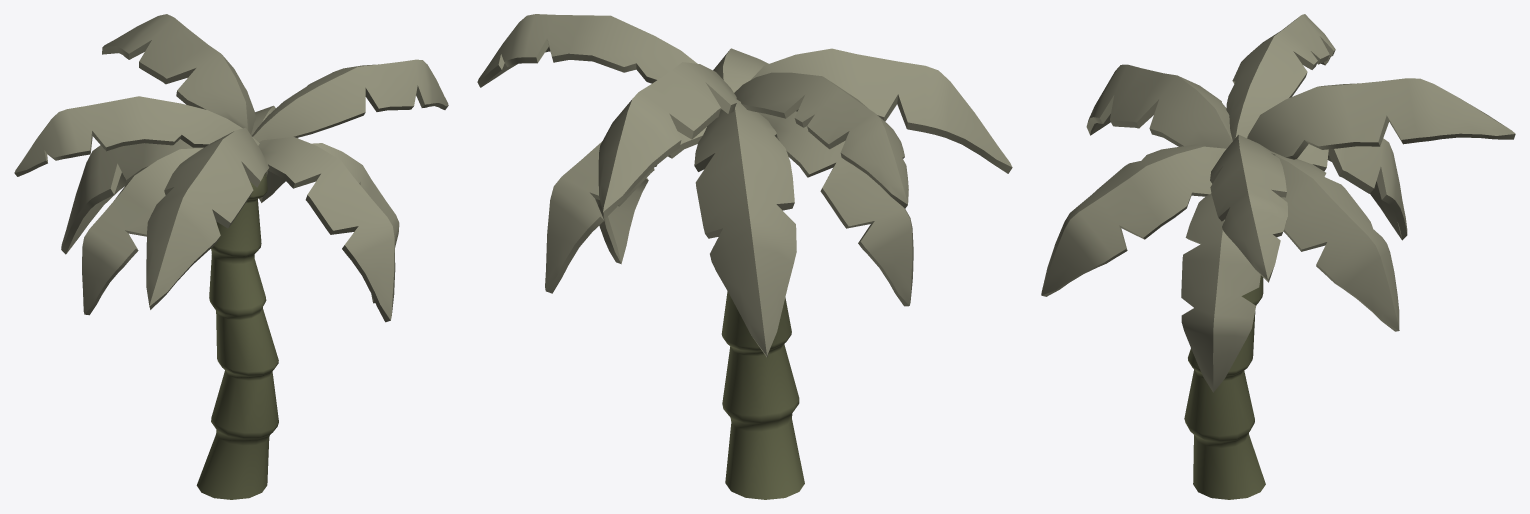
File: Environment_PalmTree_3.glb
3 renders of one model, left to right at view 1: azimuth 30°, elevation 25°; view 2: azimuth 150°, elevation 25°; view 3: azimuth 270°, elevation 25°, orthographic. The views are drawn at different scales.
Parts seen in each view (by area): view 1: Environment_PalmTree_3; view 2: Environment_PalmTree_3; view 3: Environment_PalmTree_3.
Part boxes in pixels (<box>): Environment_PalmTree_3: <box>14,14,448,499</box>; Environment_PalmTree_3: <box>477,14,1012,499</box>; Environment_PalmTree_3: <box>1041,14,1515,499</box>.
Bounding box in the file's own units: 2.86 × 2.69 × 2.75.
Materials: 1 (1 with a texture image).
